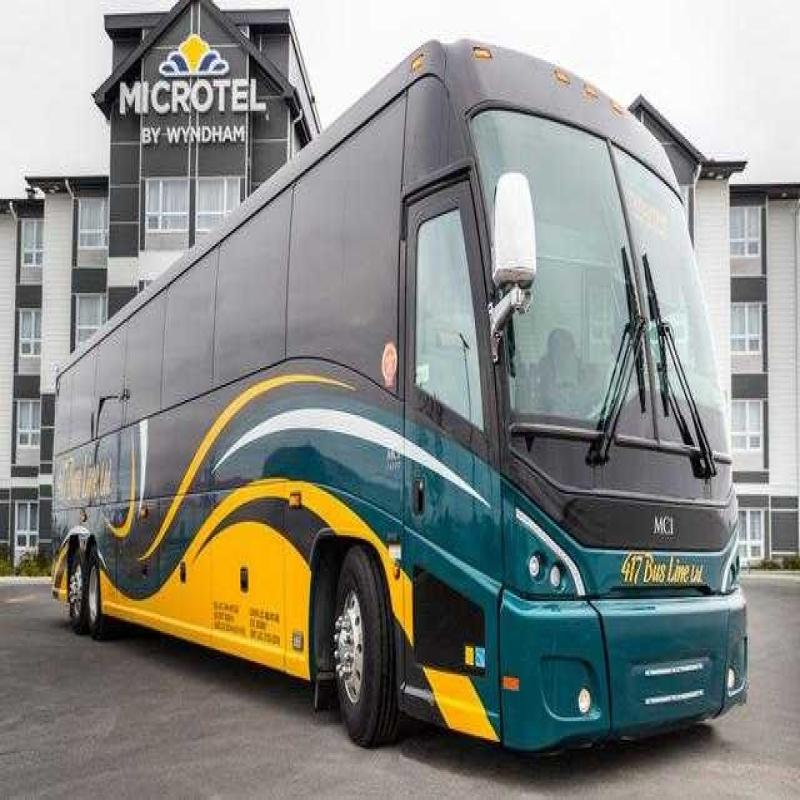bus: (45, 65, 800, 745)
